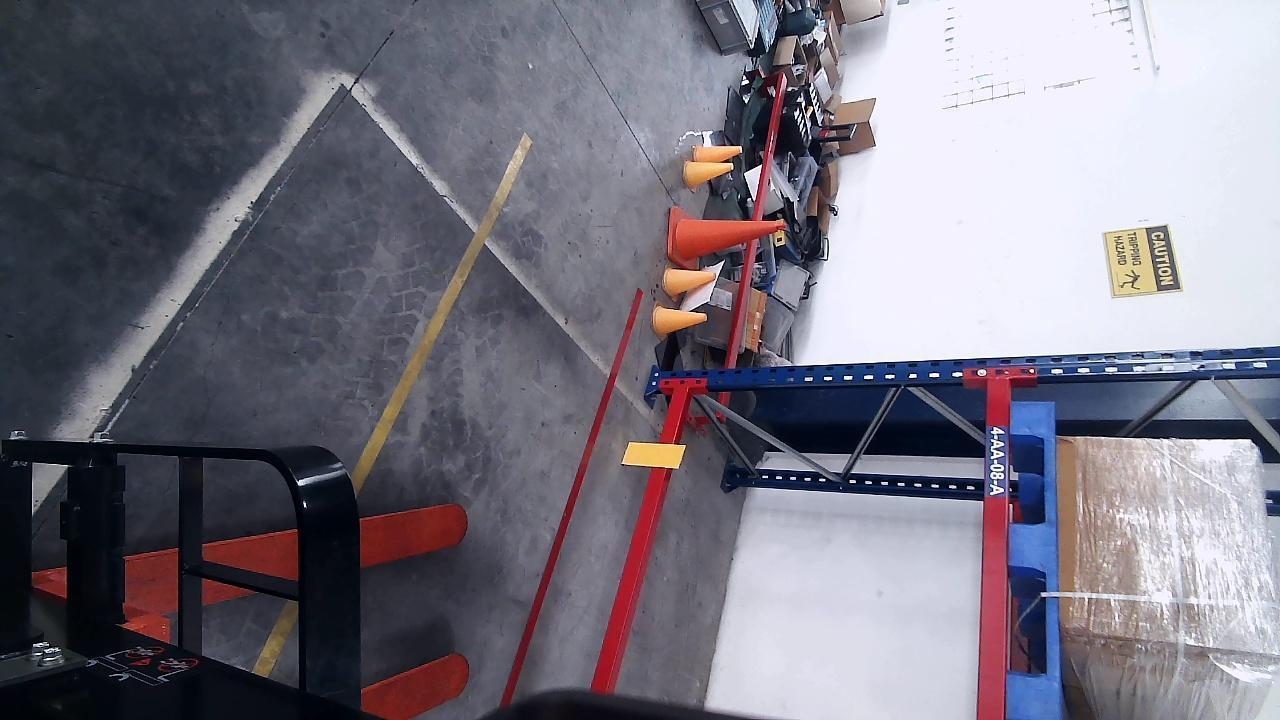red_line: (496, 287, 647, 705)
yellow_line: (350, 129, 535, 498)
